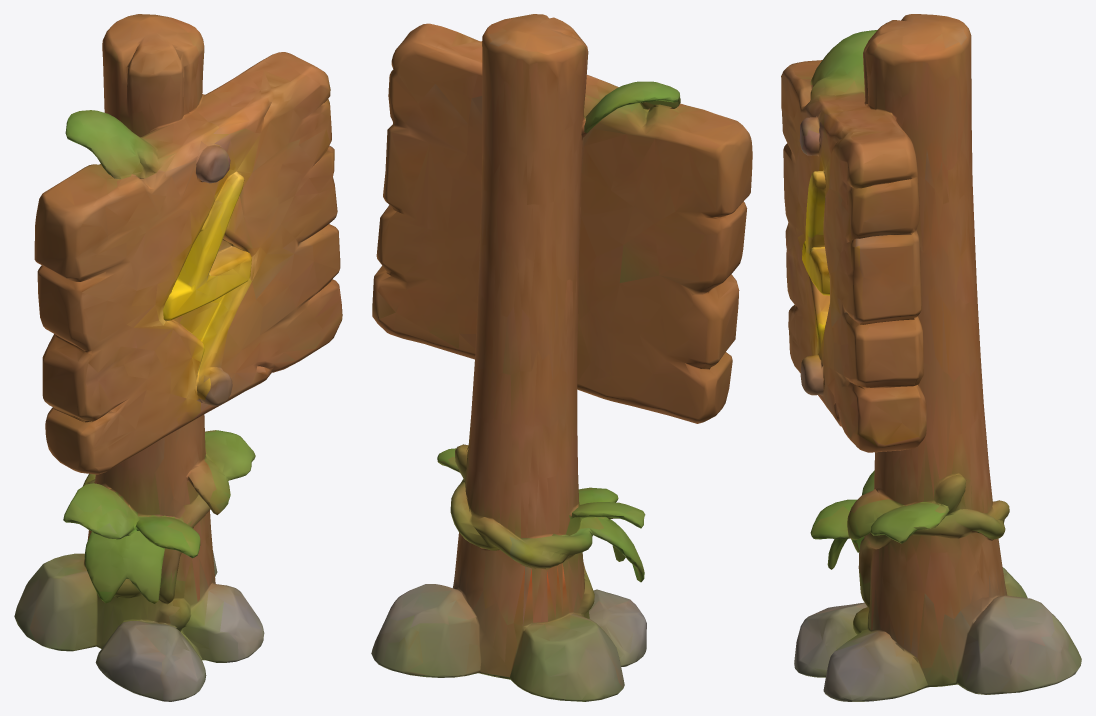
Rendered from cartel_runa_amarilla.glb.
3 views of the same model, side by side, from view 1: azimuth 30°, elevation 25°; view 2: azimuth 150°, elevation 25°; view 3: azimuth 270°, elevation 25° (orthographic). The views are drawn at different scales.
Parts seen in each view (by area): view 1: cartel_runa_amarilla_malla; view 2: cartel_runa_amarilla_malla; view 3: cartel_runa_amarilla_malla.
Part boxes in pixels (x1,y1,x2,y2): cartel_runa_amarilla_malla: (14, 14, 342, 701); cartel_runa_amarilla_malla: (371, 14, 752, 701); cartel_runa_amarilla_malla: (781, 14, 1081, 701).
Bounding box in the file's own units: 0.1585 × 0.2961 × 0.1225.
1 material, 1 textured.
